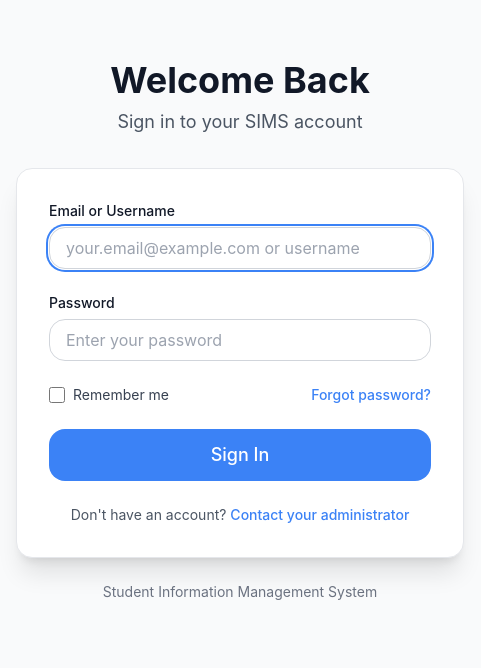
LoginPage › should display error message on login failure
The width and height of the screenshot is (481, 668).
Type "testuser" into the field labelled "Email or Username" at (240, 248), box left=49, top=227, right=431, bottom=269
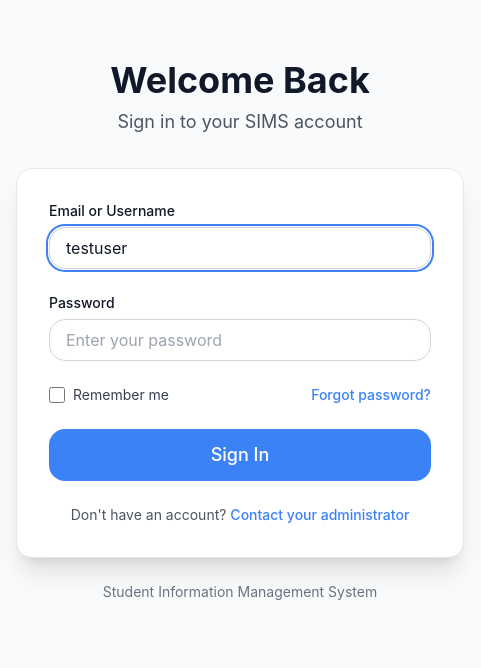
Type "wrongpassword" into the password field labelled "Password" at (240, 340), box left=49, top=319, right=431, bottom=361
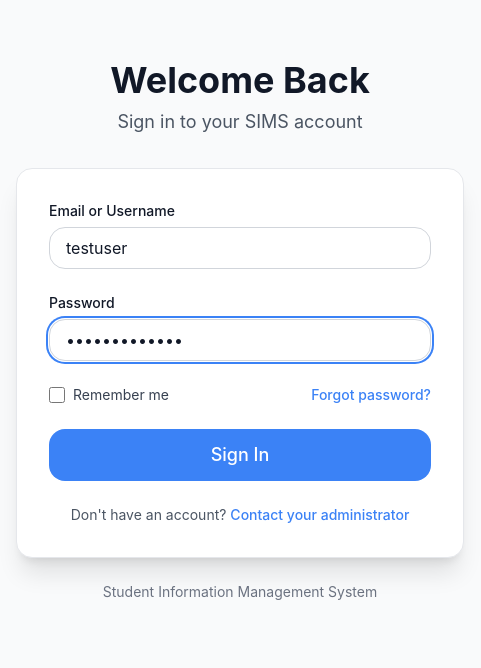
Click the button "Sign In" at (240, 455), box left=49, top=429, right=431, bottom=481
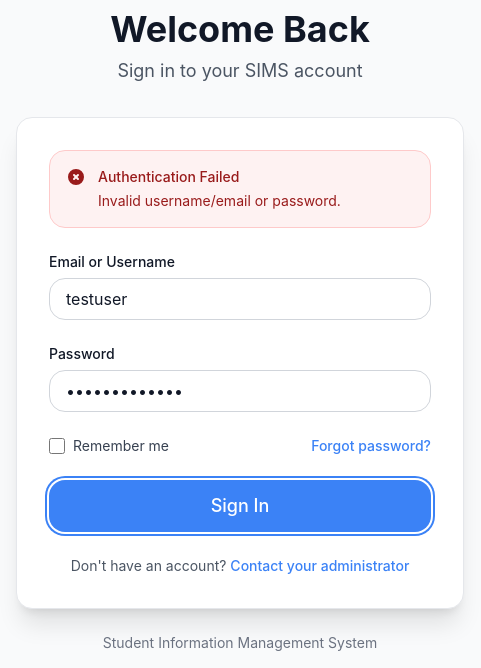
Result: the text "Invalid username/email or password." is shown at left=98, top=192, right=341, bottom=209
